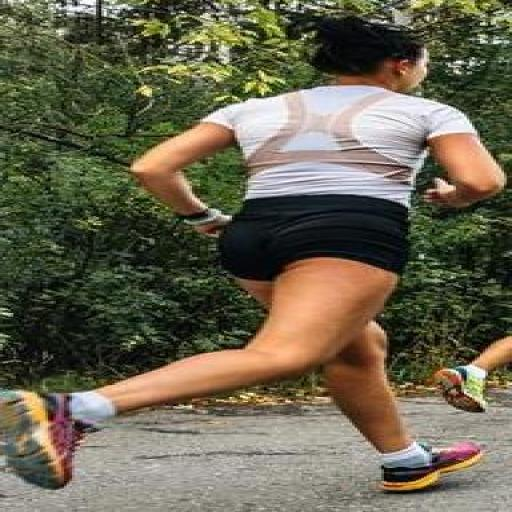person: (0, 17, 503, 491), (435, 337, 511, 412)
